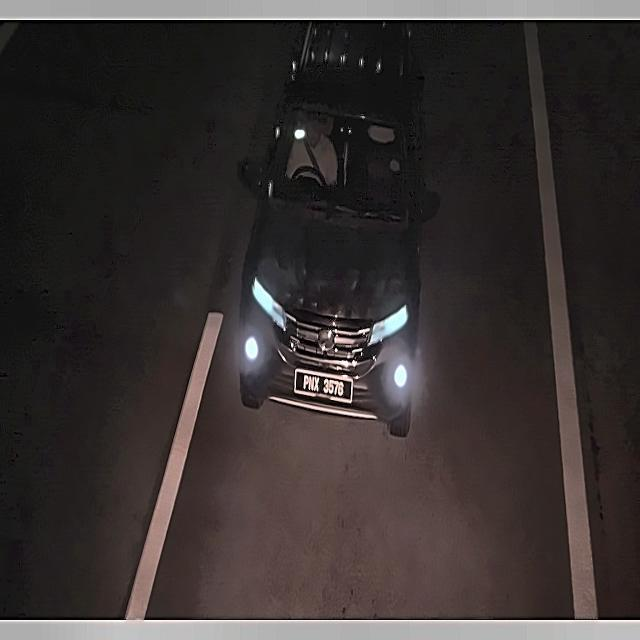car: (292, 364, 356, 407)
